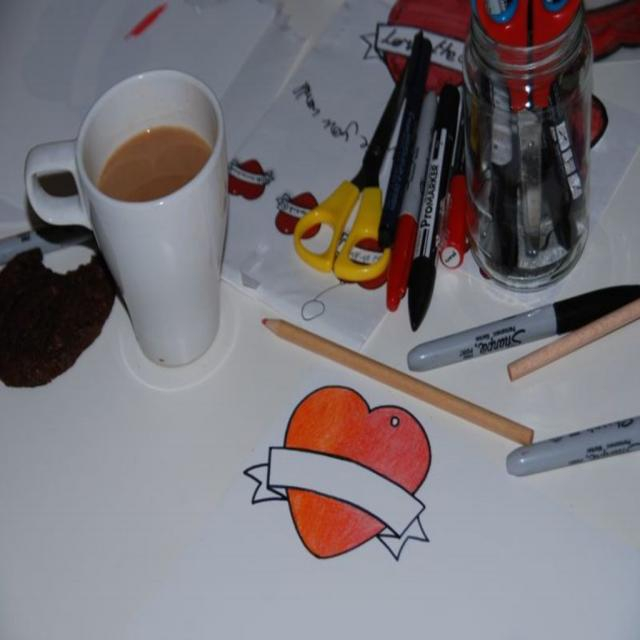Coffee: (32, 75, 227, 363)
Tea: (95, 128, 210, 198)
